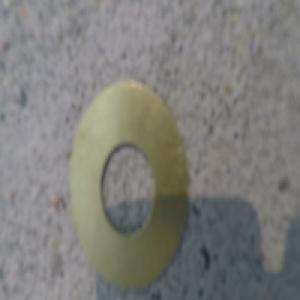Washer: (70, 85, 187, 286)
